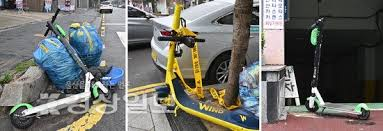fallin_kick: (7, 8, 111, 126)
kick_board: (155, 35, 256, 129), (307, 17, 368, 120)
kick_body: (323, 105, 357, 115)
kick_handler: (310, 18, 326, 26)
kick_neck: (313, 29, 318, 90)
kick_wheel: (306, 97, 320, 112), (357, 104, 368, 120)
